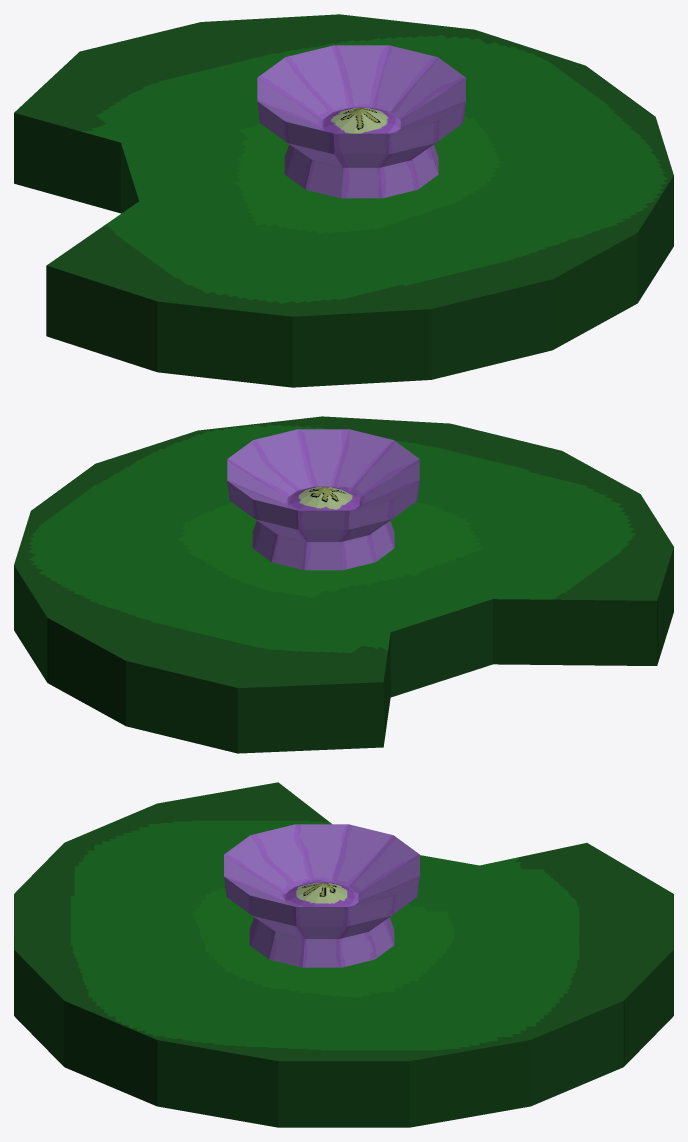
File: Generic_WaterLilly.fbx
3 renders of one model, top to bottom at view 1: azimuth 30°, elevation 25°; view 2: azimuth 150°, elevation 25°; view 3: azimuth 270°, elevation 25°, orthographic. The views are drawn at different scales.
Visible parts, largest first — view 1: cylinder, sphere; view 2: cylinder, sphere; view 3: cylinder, sphere.
Part boxes in pixels (x1=…): cylinder: x1=14, y1=14, x2=673, y2=387; sphere: x1=257, y1=45, x2=465, y2=198; cylinder: x1=14, y1=416, x2=673, y2=753; sphere: x1=227, y1=429, x2=419, y2=570; cylinder: x1=14, y1=782, x2=673, y2=1127; sphere: x1=224, y1=824, x2=419, y2=967.
Size of the model in its own units: 56.25 by 17.37 by 56.25.
1 material, 1 textured.
